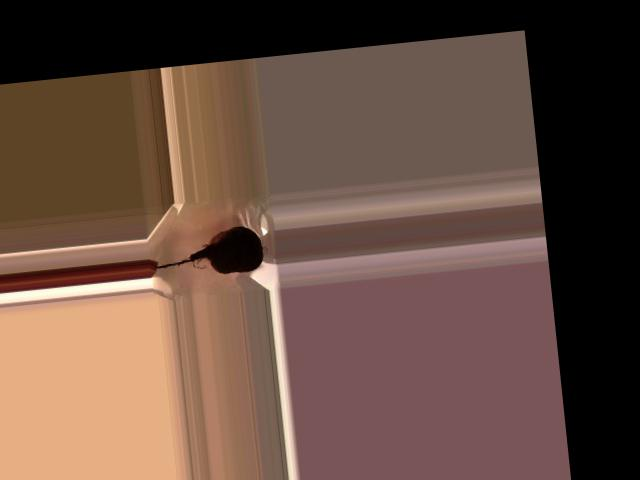beet: (151, 223, 264, 280)
